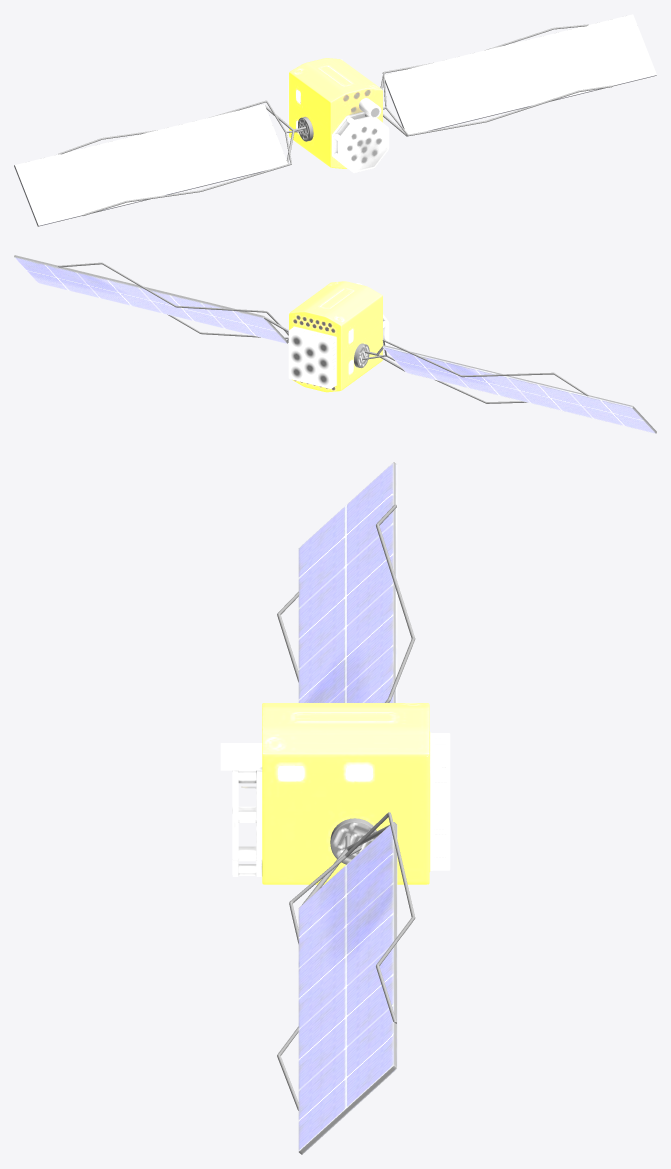
The model's file is satellite2.glb.
The picture shows the model from 3 angles, top to bottom: view 1: azimuth 30°, elevation 25°; view 2: azimuth 150°, elevation 25°; view 3: azimuth 270°, elevation 25°; orthographic projection. The views are drawn at different scales.
Parts seen in each view (by area): view 1: 10477_Satellite_v1_L3; view 2: 10477_Satellite_v1_L3; view 3: 10477_Satellite_v1_L3.
Part boxes in pixels (box(x1,y1,x2,y2)): 10477_Satellite_v1_L3: box(14, 14, 656, 226); 10477_Satellite_v1_L3: box(14, 255, 656, 433); 10477_Satellite_v1_L3: box(220, 462, 450, 1154).
Bounding box in the file's own units: 25.07 × 2.94 × 4.03.
